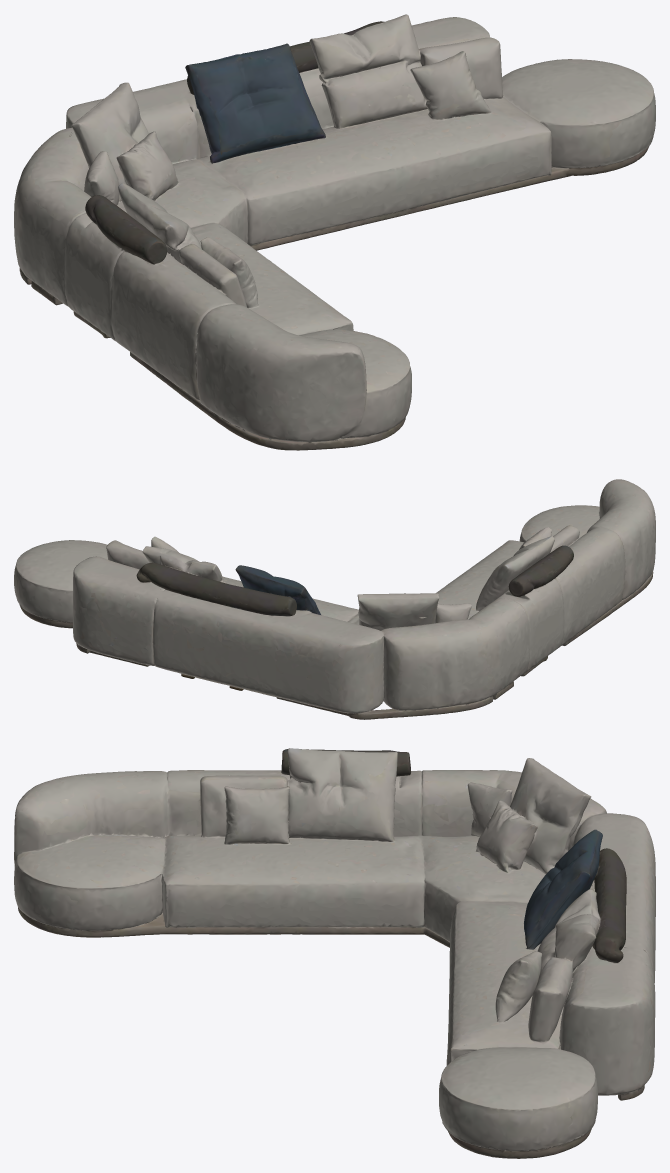
File: elegant-sofa.glb
The picture shows the model from 3 angles, top to bottom: view 1: azimuth 30°, elevation 25°; view 2: azimuth 150°, elevation 25°; view 3: azimuth 270°, elevation 25°; orthographic projection. The views are drawn at different scales.
Visible parts, largest first — view 1: world.001; view 2: world.001; view 3: world.001.
Boxes of the visible parts, bbox=[...] form: world.001: bbox=[14, 14, 655, 450]; world.001: bbox=[14, 479, 655, 719]; world.001: bbox=[14, 748, 655, 1158].
Size of the model in its own units: 5.92 by 1.25 by 5.31.
Materials: 1 (1 with a texture image).
